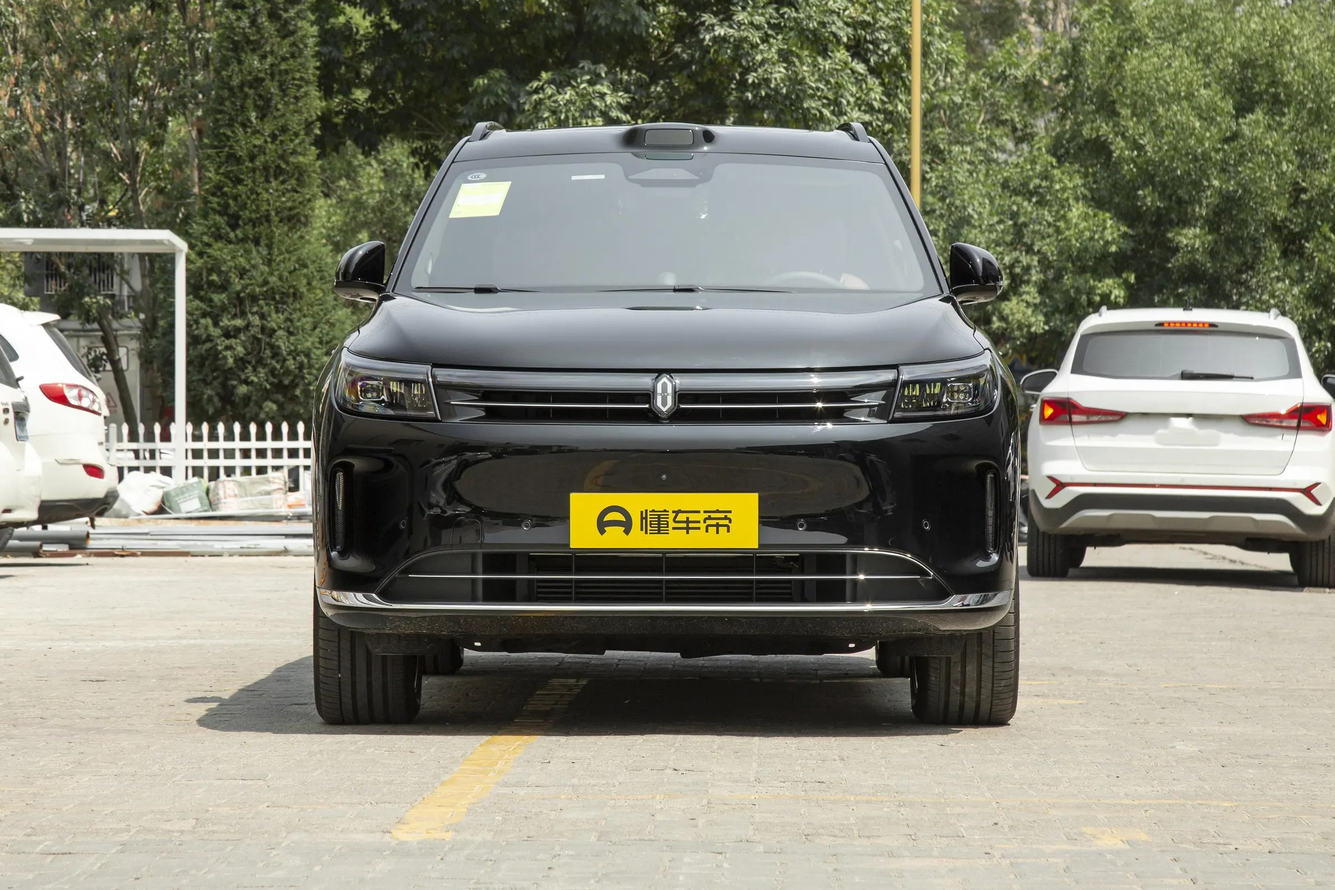AITO: (657, 378, 671, 411)
